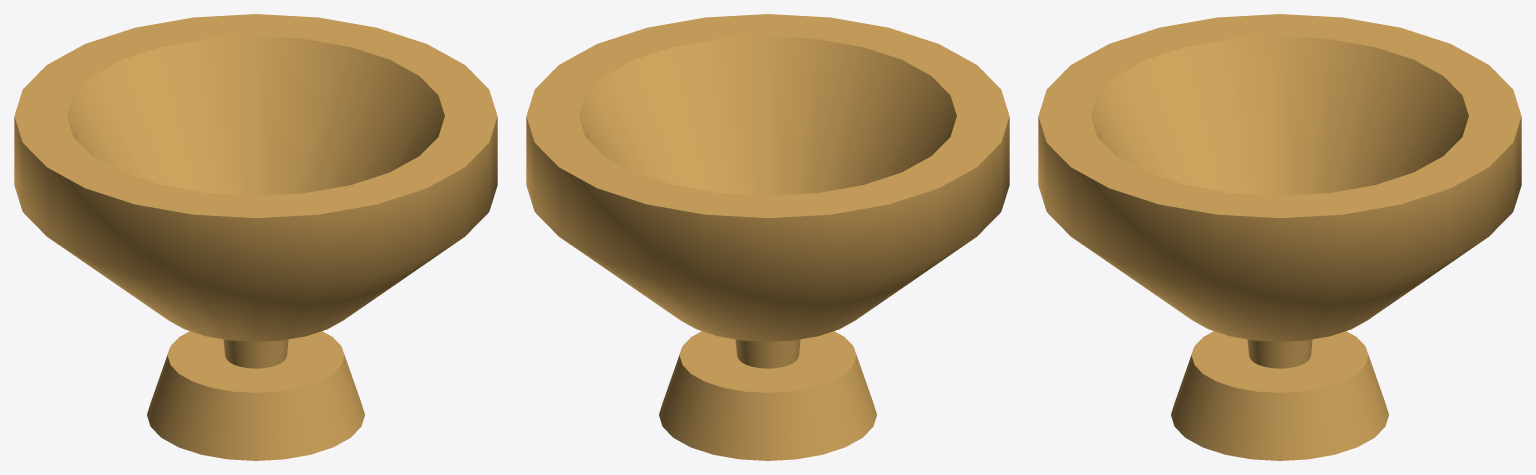
Rendered from detailBowl.dae.
The picture shows the model from 3 angles, left to right: view 1: azimuth 30°, elevation 25°; view 2: azimuth 150°, elevation 25°; view 3: azimuth 270°, elevation 25°; orthographic projection.
Visible parts, largest first — view 1: detailBowl; view 2: detailBowl; view 3: detailBowl.
Part boxes in pixels (x1,y1,x2,y2): detailBowl: [14, 14, 497, 460]; detailBowl: [526, 14, 1009, 460]; detailBowl: [1038, 14, 1521, 460].
Size of the model in its own units: 0.1587 by 0.1083 by 0.1587.
